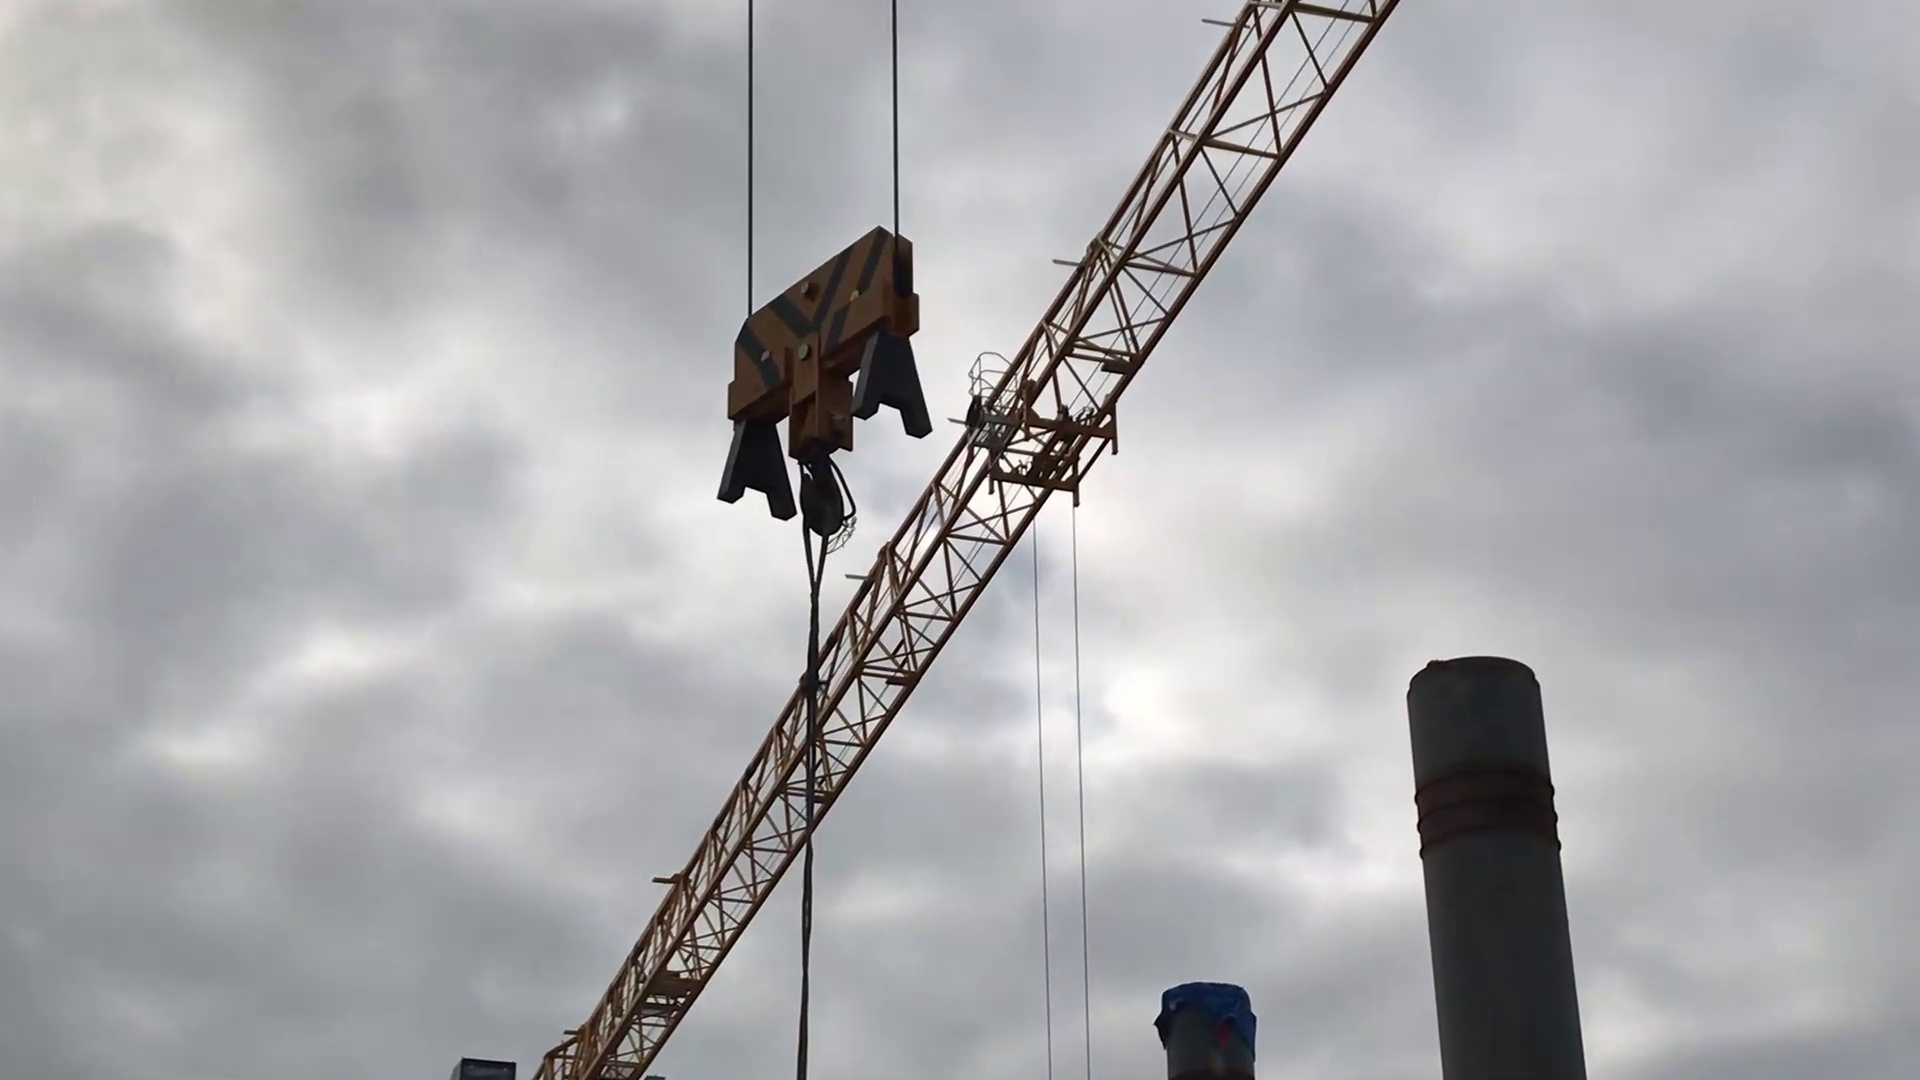hook: (712, 220, 943, 549)
